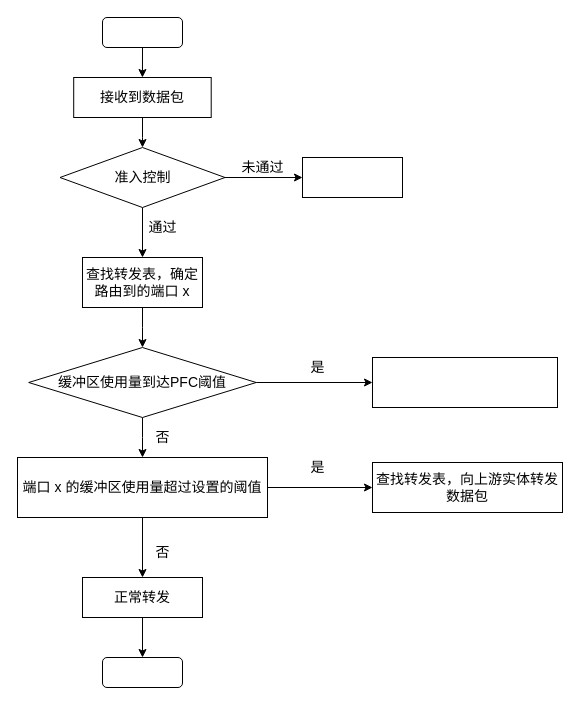
This 580x705 diagram has some shape labels left out. Here are the shapes that lost their labels. From the top down, the box of each, then its label:
(102, 16, 182, 48): 开始
(302, 156, 402, 198): 丢弃
(372, 356, 558, 408): 向上游实体发送PFC暂停帧
(102, 656, 182, 688): 结束
